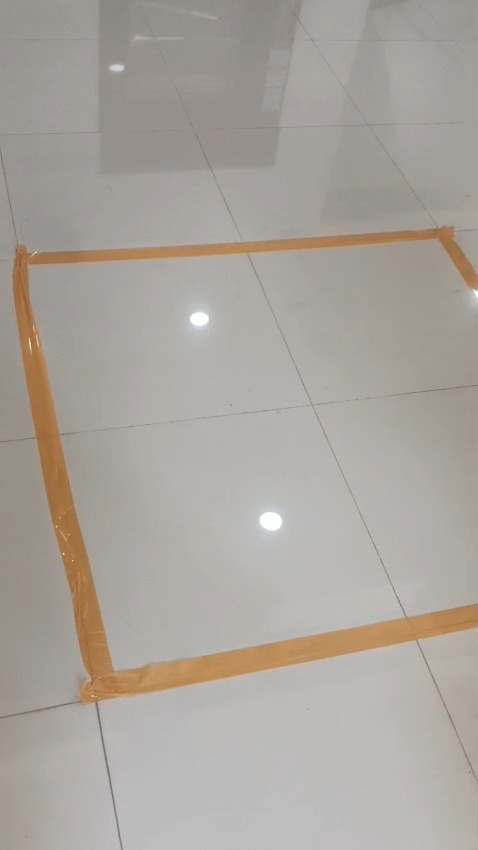floor marking: (13, 227, 477, 701)
